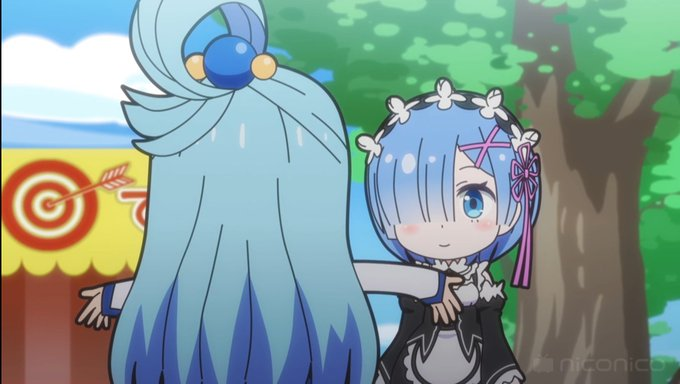rem: (346, 81, 542, 384)
